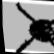not correct: (8, 0, 54, 54)
